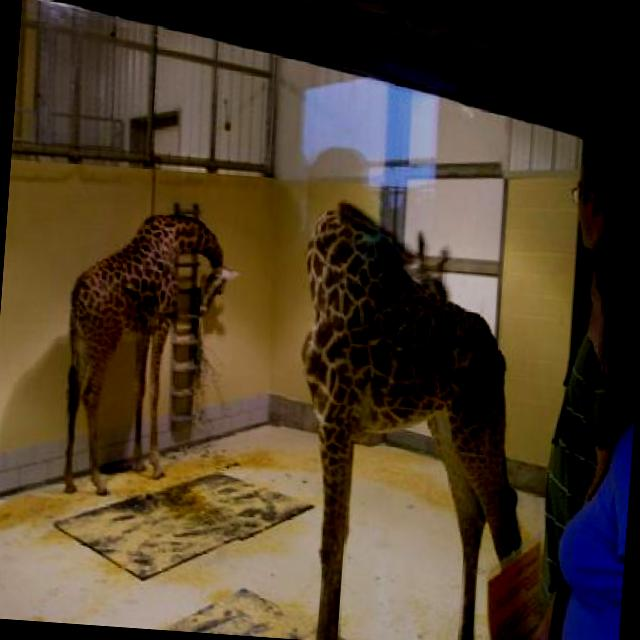Person: (526, 120, 640, 640), (548, 213, 640, 640)
